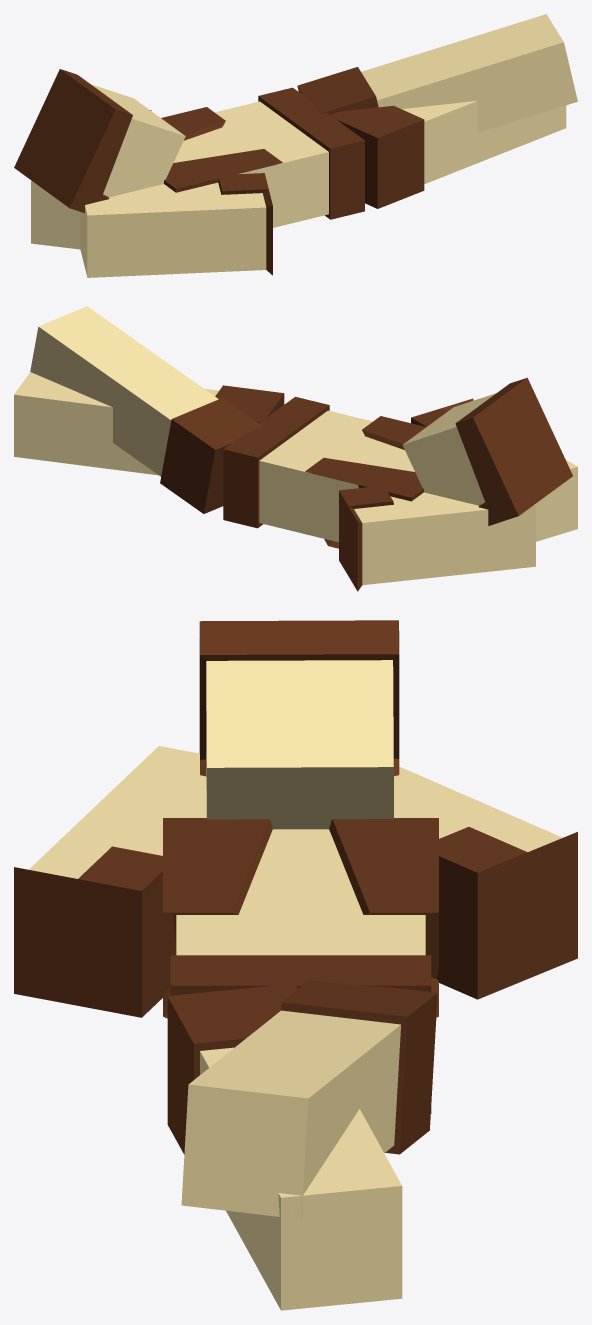
Rendered from sleep.fbx.
3 views of the same model, one above another, from view 1: azimuth 30°, elevation 25°; view 2: azimuth 150°, elevation 25°; view 3: azimuth 270°, elevation 25° (orthographic). The views are drawn at different scales.
Visible parts, largest first — view 1: Cube, Cube.004, Cube.002, Cube.006, Cube.005, Cube.003; view 2: Cube.004, Cube, Cube.003, Cube.006, Cube.005, Cube.002; view 3: Cube, Cube.004, Cube.006, Cube.002, Cube.005, Cube.003.
Part boxes in pixels (<box>): Cube: <box>161,87,364,227</box>; Cube.004: <box>297,14,577,132</box>; Cube.002: <box>80,173,272,277</box>; Cube.006: <box>14,69,185,213</box>; Cube.005: <box>330,101,566,208</box>; Cube.003: <box>31,110,151,249</box>; Cube.004: <box>30,306,262,513</box>; Cube: <box>223,396,426,548</box>; Cube.003: <box>339,487,535,591</box>; Cube.006: <box>403,377,572,525</box>; Cube.005: <box>14,372,284,475</box>; Cube.002: <box>411,398,577,541</box>; Cube: <box>163,818,438,1113</box>; Cube.004: <box>181,980,437,1219</box>; Cube.006: <box>199,620,399,829</box>; Cube.002: <box>14,746,206,1017</box>; Cube.005: <box>167,985,402,1310</box>; Cube.003: <box>394,766,577,999</box>.
Size of the model in its own units: 312 by 88.9 by 162.
